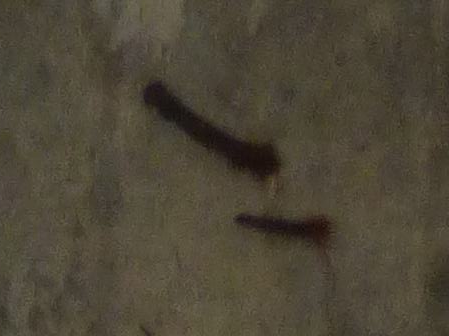Exposed reinforcement: (143, 83, 275, 175), (233, 212, 328, 241)
